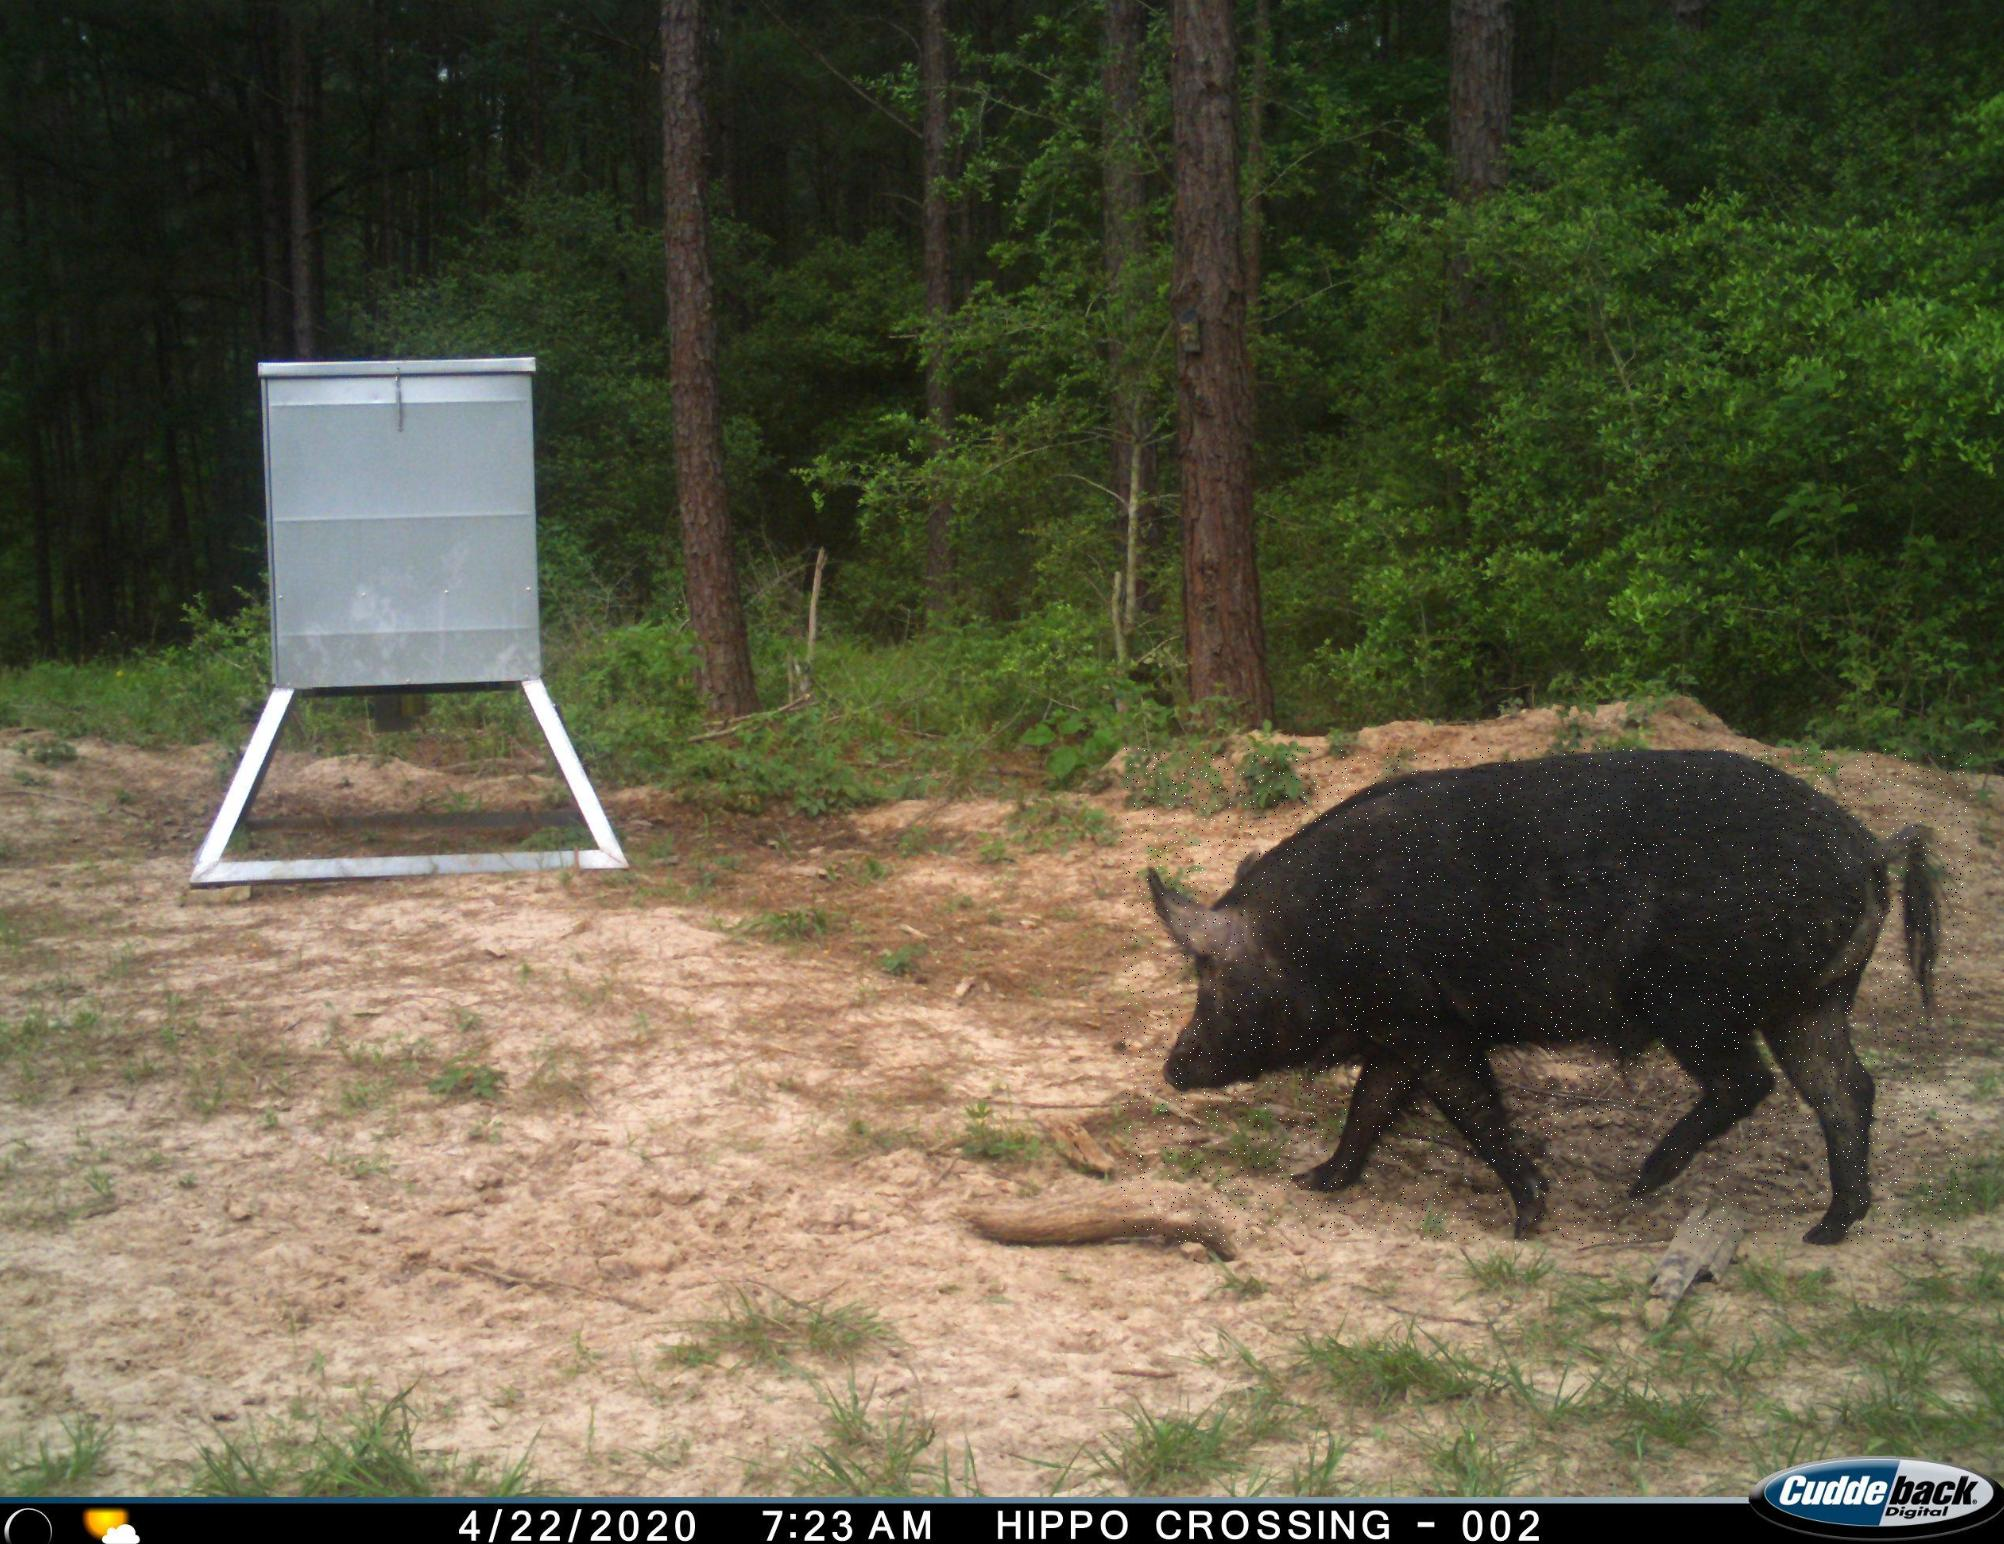Hog: (1120, 748, 1972, 1244)
